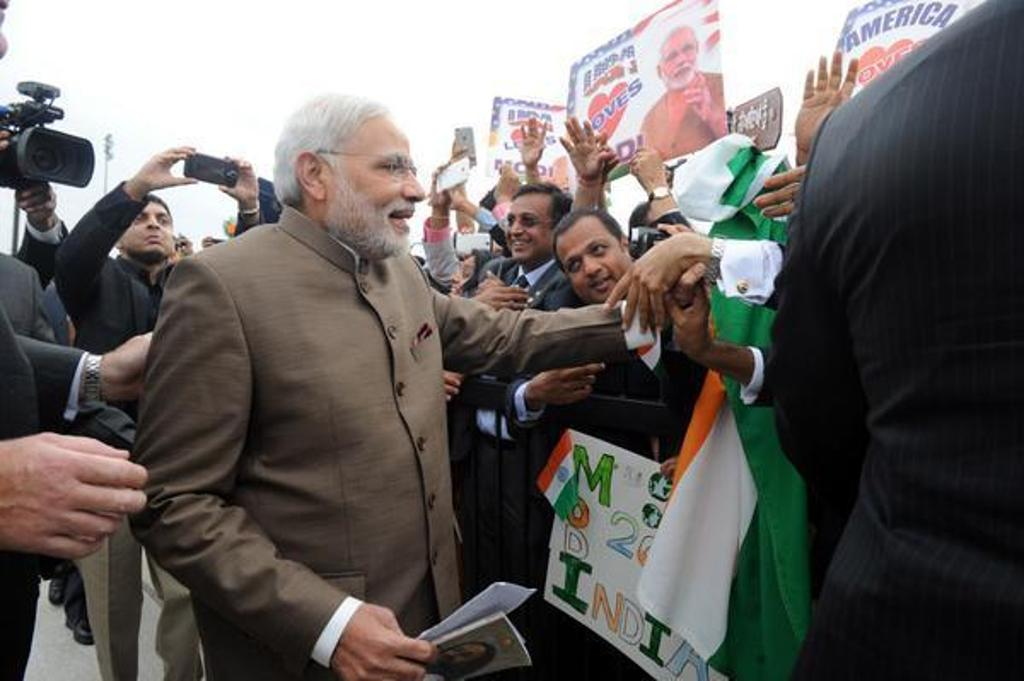face: (323, 126, 424, 250), (558, 225, 632, 303), (506, 197, 552, 258), (122, 197, 172, 253), (658, 34, 697, 80)
